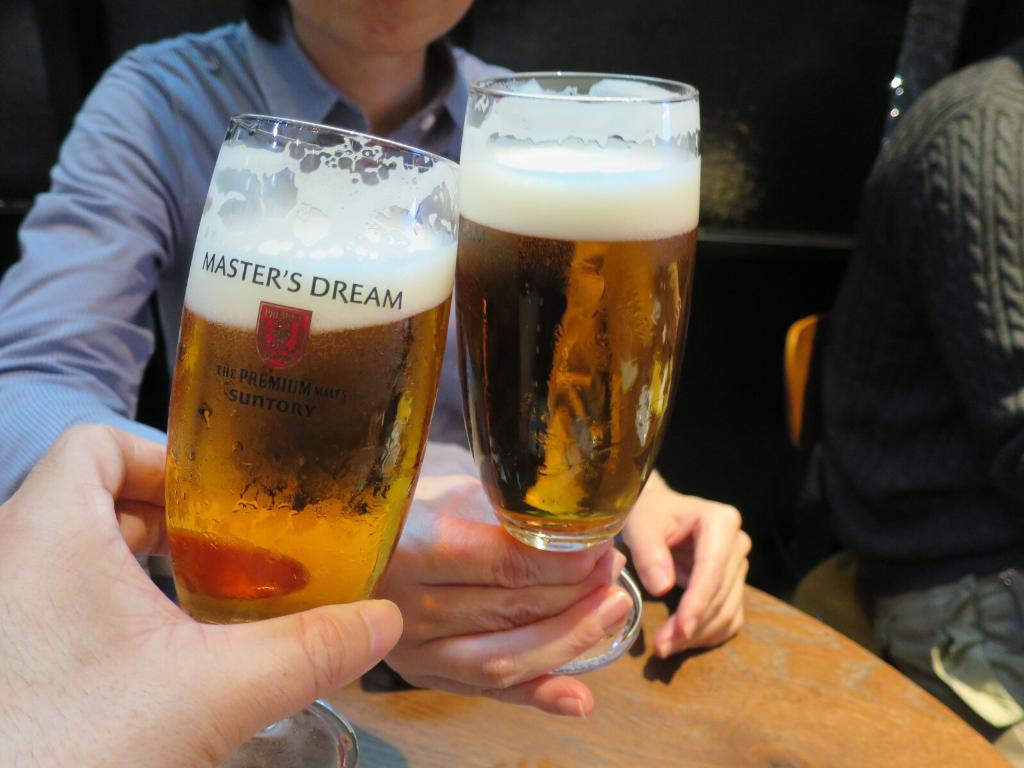Beer: (172, 101, 464, 767), (472, 44, 704, 702)
